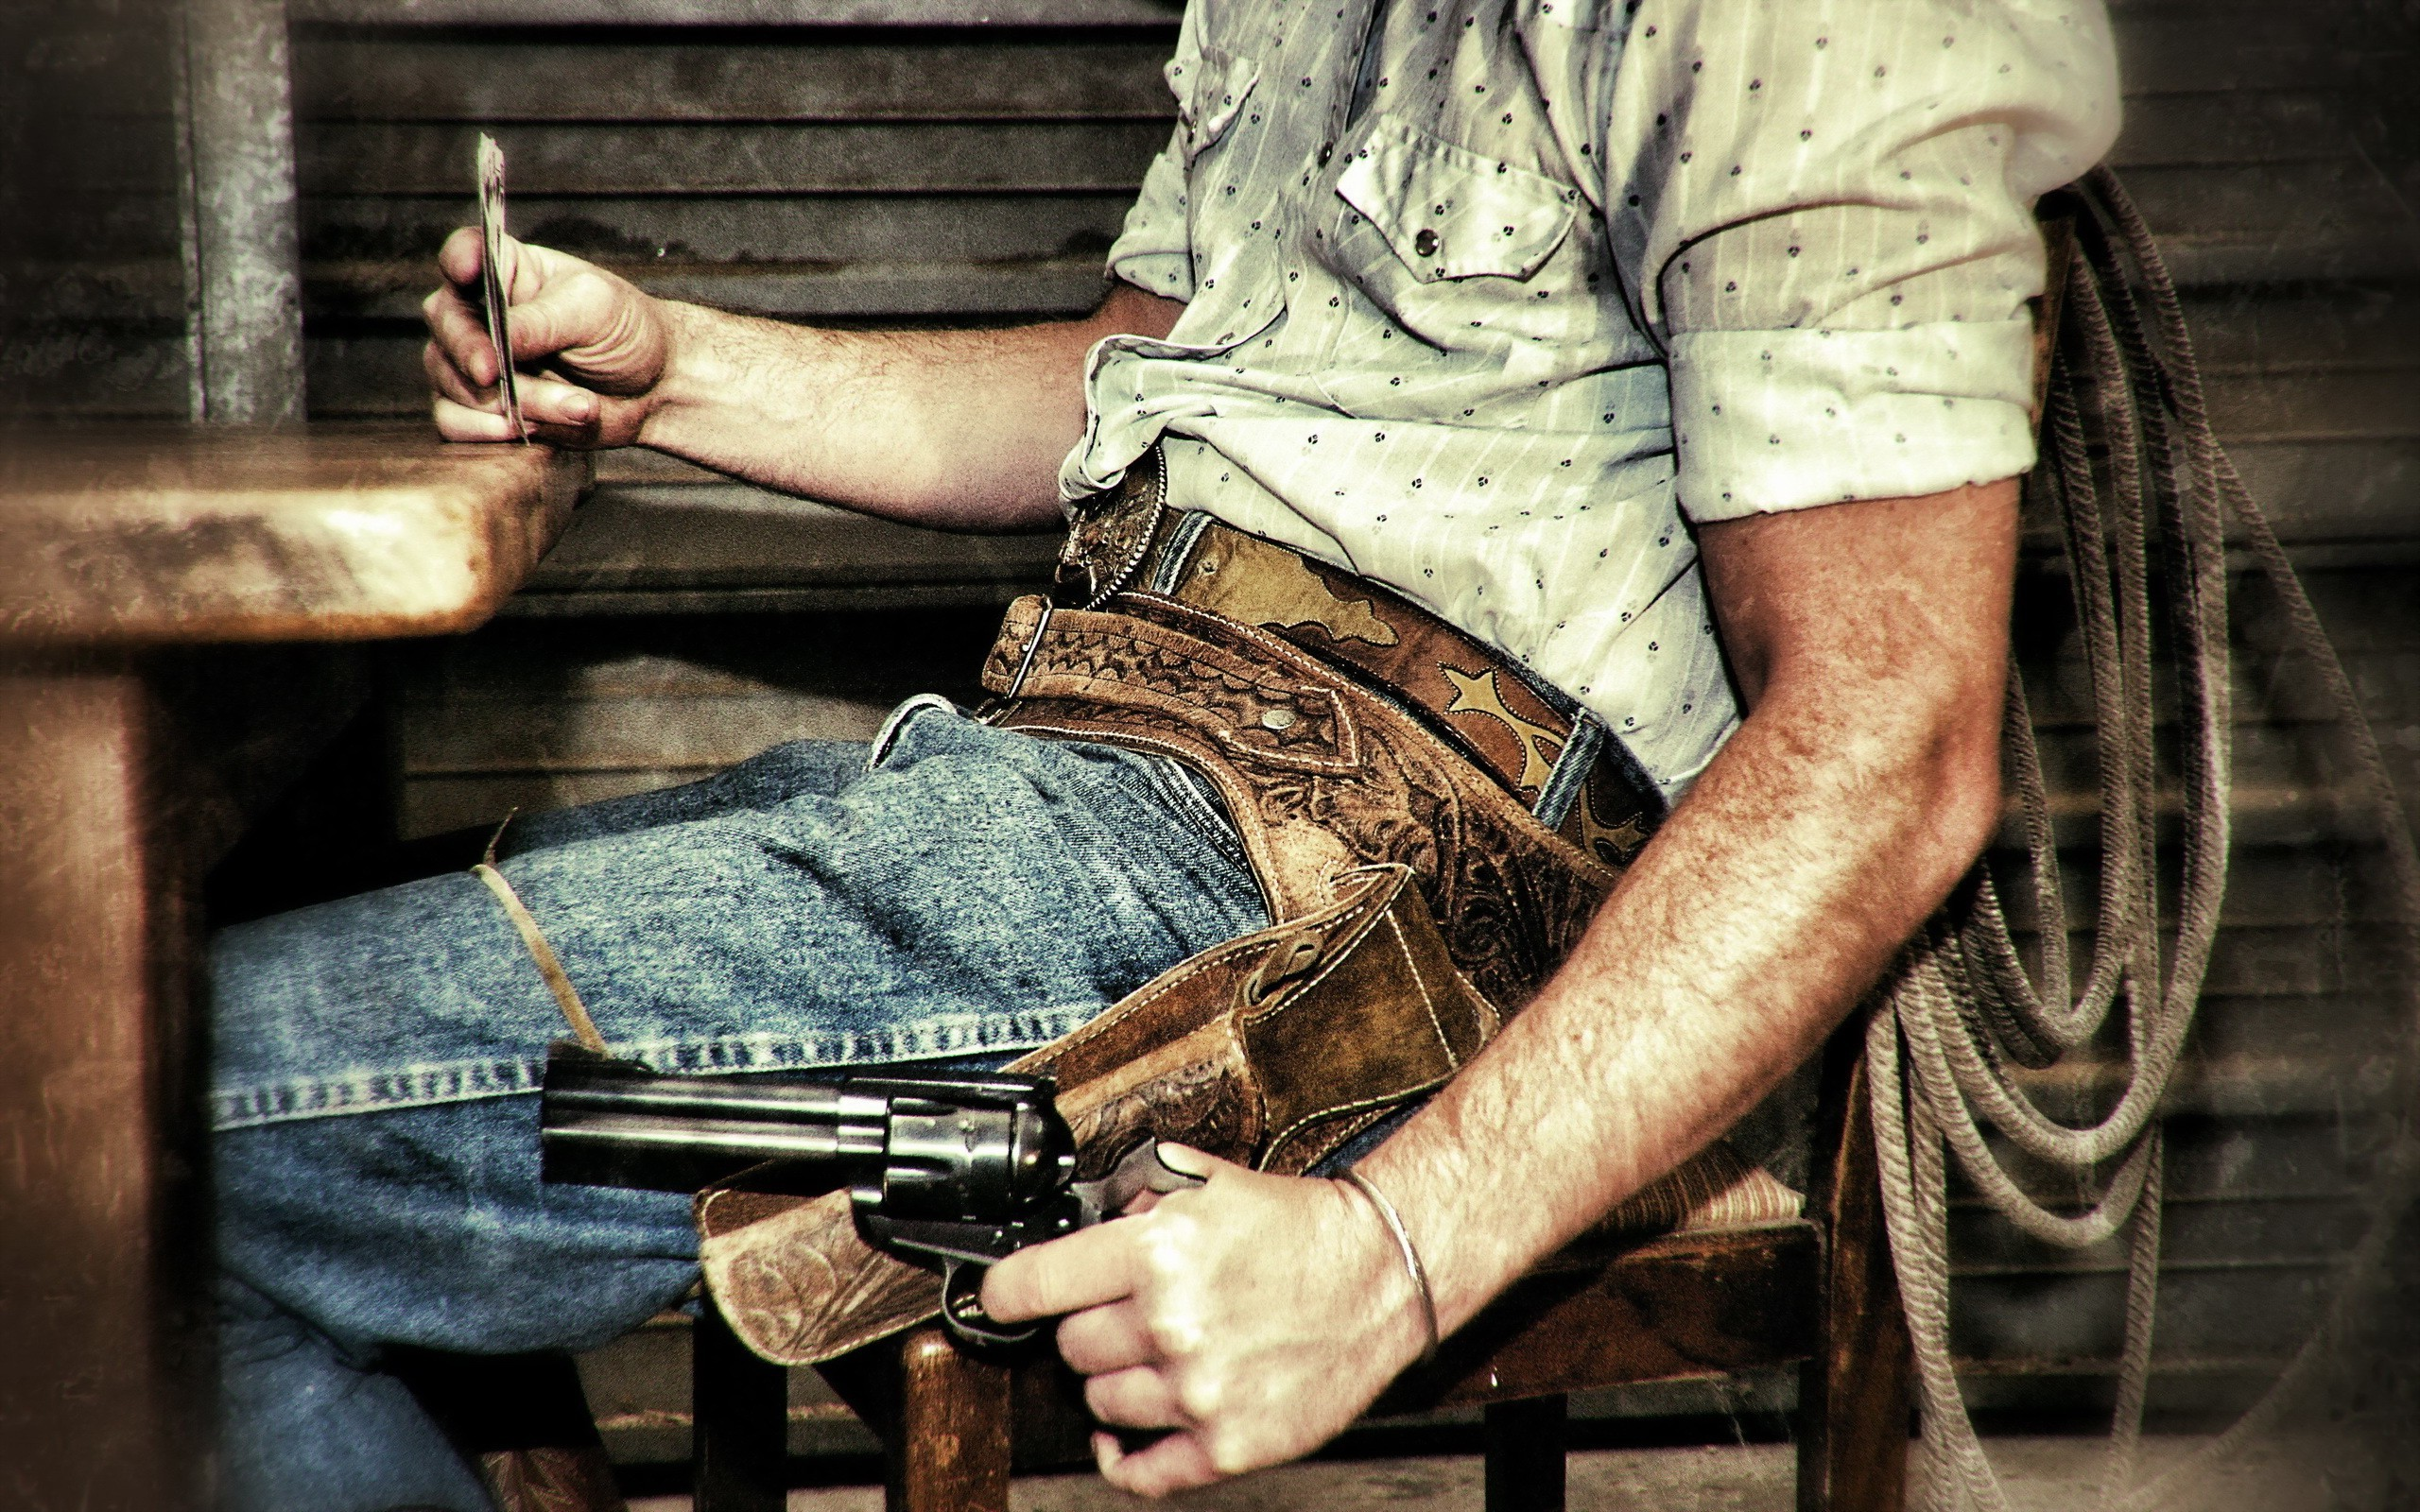Revolver: (491, 1007, 1258, 1373)
